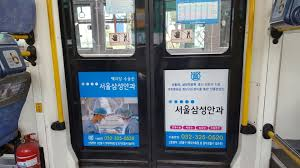in: (49, 1, 256, 162)
